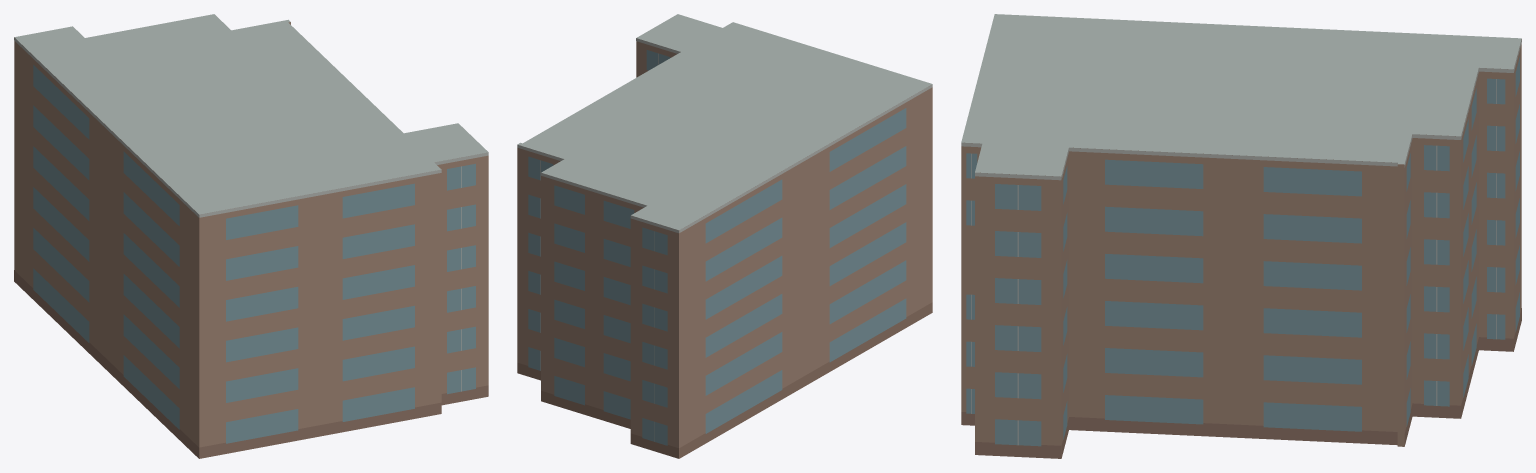
Rendered from survey-upis-33035261.glb.
3 renders of one model, left to right at view 1: azimuth 30°, elevation 25°; view 2: azimuth 150°, elevation 25°; view 3: azimuth 270°, elevation 25°, orthographic. The views are drawn at different scales.
Parts seen in each view (by area): view 1: survey-upis-33035261.tmp; view 2: survey-upis-33035261.tmp; view 3: survey-upis-33035261.tmp.
Boxes of the visible parts, <box> form: survey-upis-33035261.tmp: <box>14,14,488,458</box>; survey-upis-33035261.tmp: <box>517,14,932,458</box>; survey-upis-33035261.tmp: <box>961,14,1521,458</box>.
Size of the model in its own units: 22.59 by 18.3 by 32.93.
